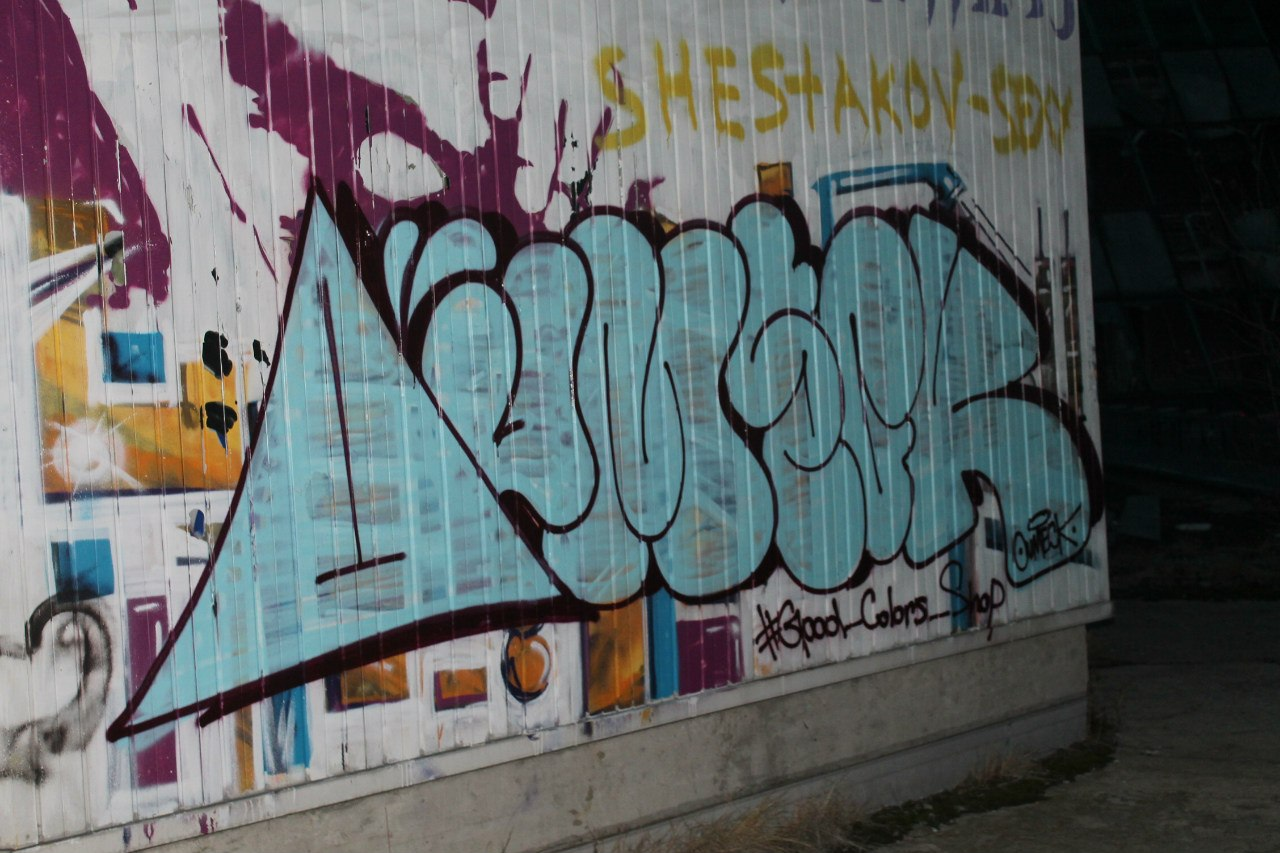graffity: (99, 163, 1118, 749), (7, 184, 269, 807), (573, 22, 1083, 185)
